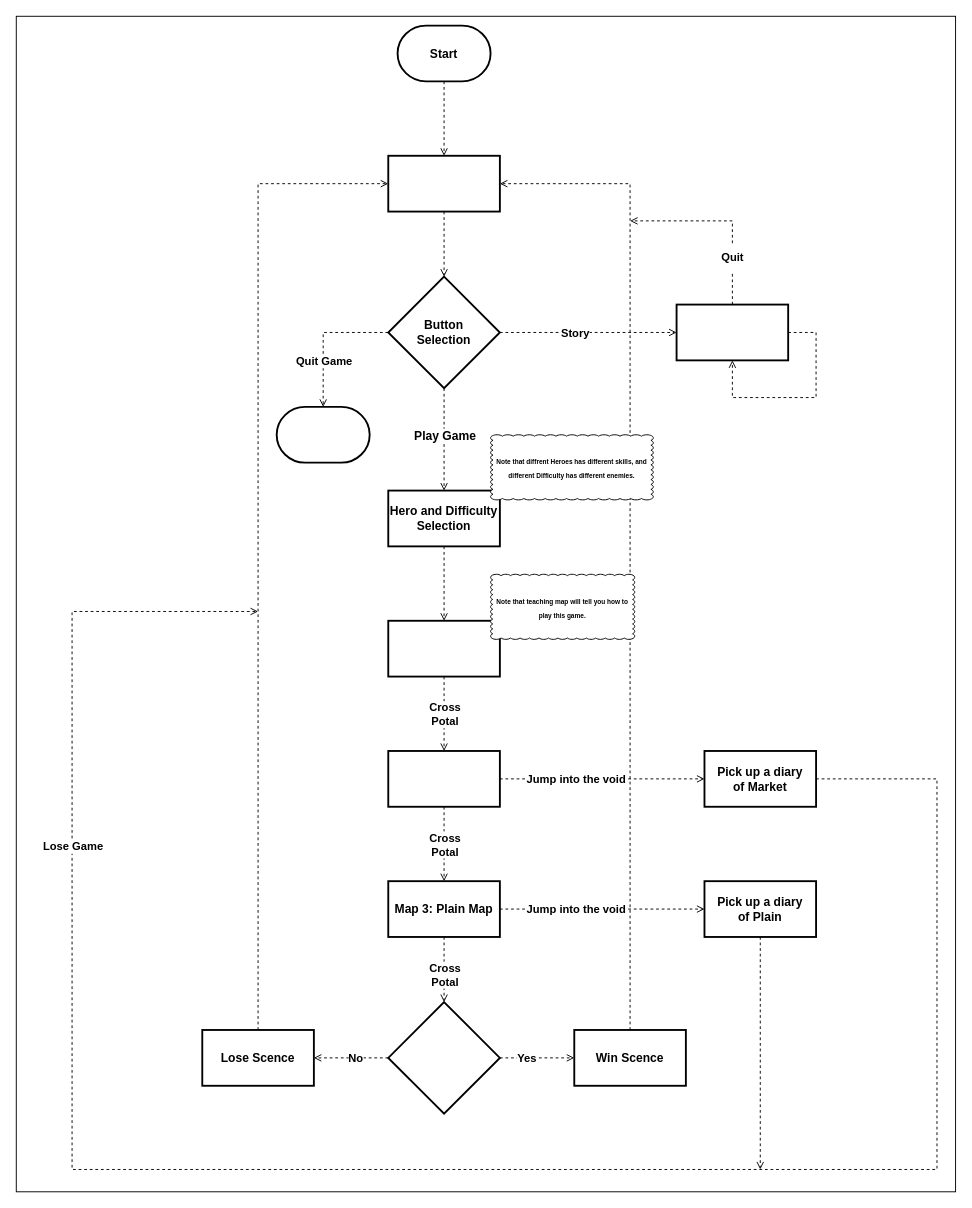
Image size: 972x1208. Some labels were removed from this diagram. Each missing label, with the centre of its shape:
"End" goes at pixel 322 434.
"Enter Main Menu" goes at pixel 443 183.
"Map 1: Teaching Map" goes at pixel 443 648.
"Map 2: Market Map" goes at pixel 443 778.
"Player survive during playing?" goes at pixel 443 1057.
"Reading Story" goes at pixel 732 332.
